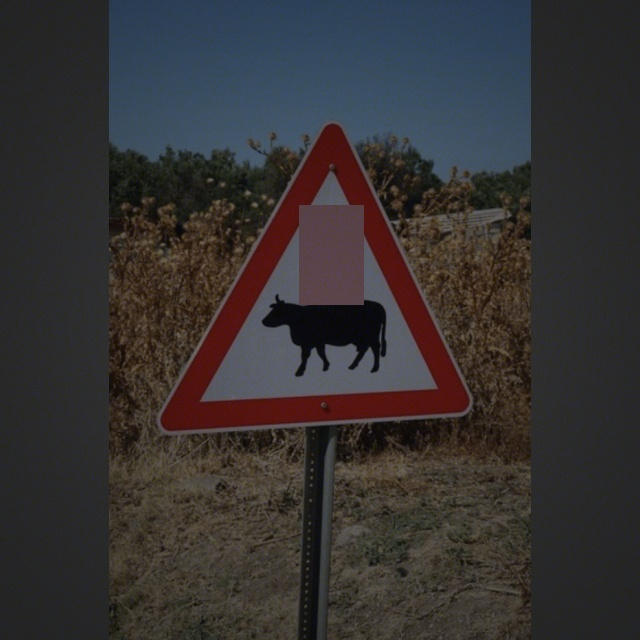Cattle: (174, 127, 476, 434)
